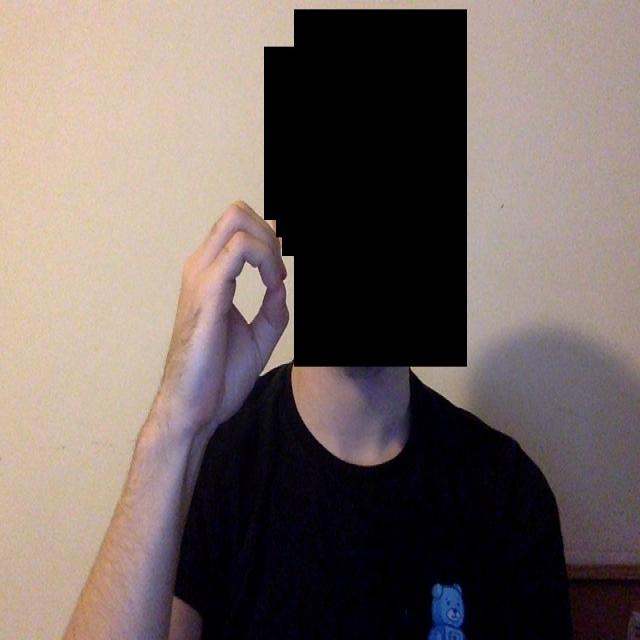O: (166, 159, 300, 471)
